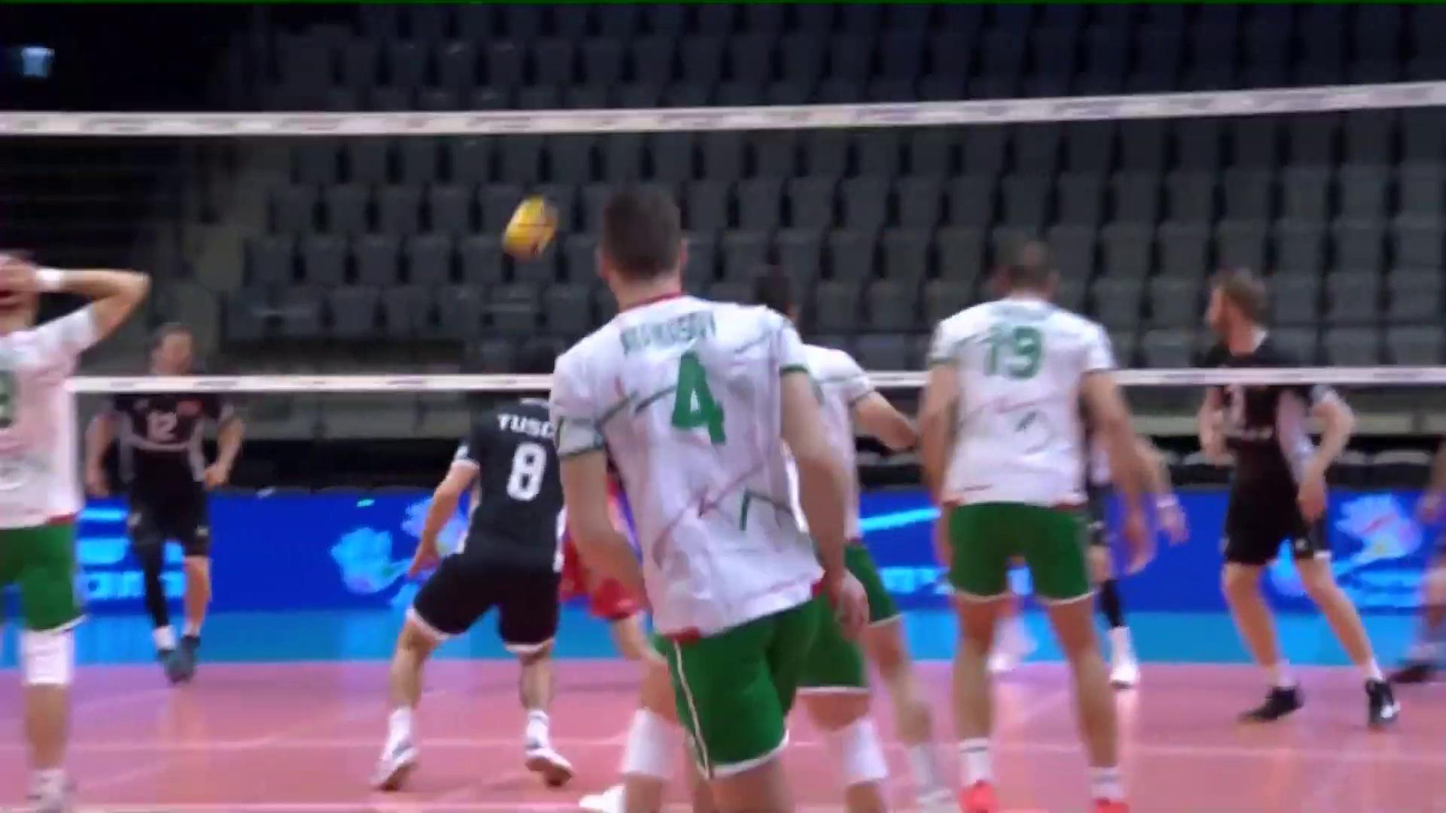ball: (502, 195, 565, 263)
